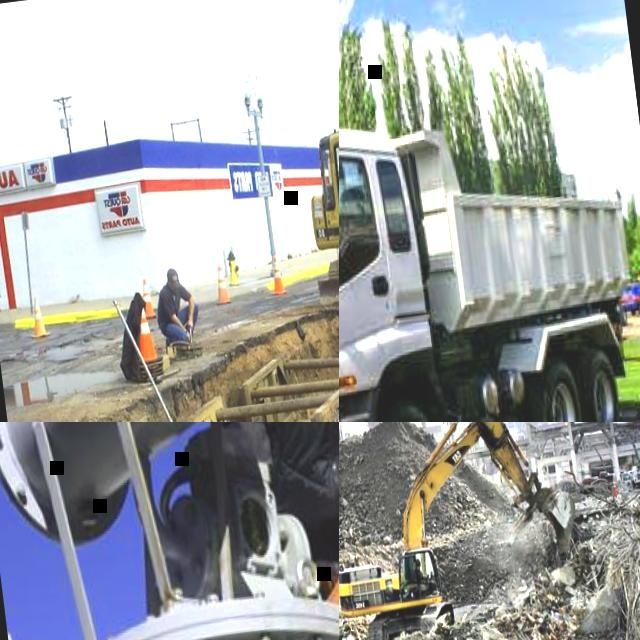NO-Hardhat: (165, 265, 179, 281), (415, 558, 421, 565)
NO-Safety Vest: (240, 422, 339, 552), (160, 286, 186, 325)
Person: (172, 422, 339, 640), (151, 261, 202, 348), (413, 556, 427, 580)
Safety Cone: (131, 305, 165, 379), (25, 296, 49, 339), (210, 261, 231, 306), (266, 255, 287, 296), (139, 278, 157, 320)
machinery: (339, 71, 640, 422), (339, 422, 587, 640), (631, 463, 640, 484)
vehicle: (619, 280, 640, 314)
